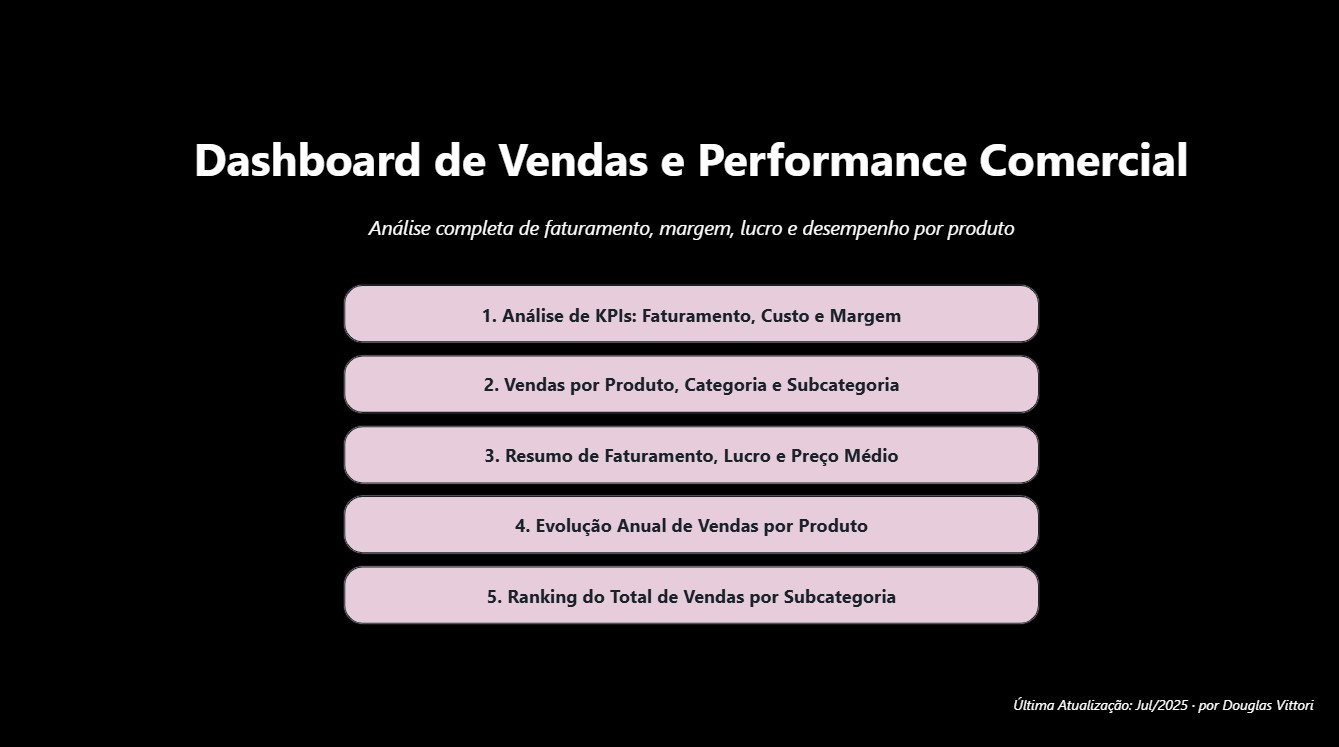

This screenshot's page, from the dashboard's own definition file:
{"tool":"powerbi","page":{"name":"Indice","canvas":[1280,720],"ordinal":0},"visuals":[{"type":"pageNavigator","box":[328.6,275,664.3,327.4],"z":0},{"type":"textbox","box":[126.2,121.4,1067.9,82.1],"z":1000},{"type":"textbox","box":[961.9,661.9,317.9,35.7],"z":2000},{"type":"textbox","box":[242.9,203.6,835.7,57.1],"z":3000}]}

Visuals, with their boxes in screenshot pixels (x1, y1, x2, y2), scaled from the page's 1280x720 canvas onto the 1339x747 screenshot:
pageNavigator: bbox=[344, 285, 1039, 625]
textbox: bbox=[132, 126, 1249, 211]
textbox: bbox=[1006, 687, 1338, 724]
textbox: bbox=[254, 211, 1128, 270]
